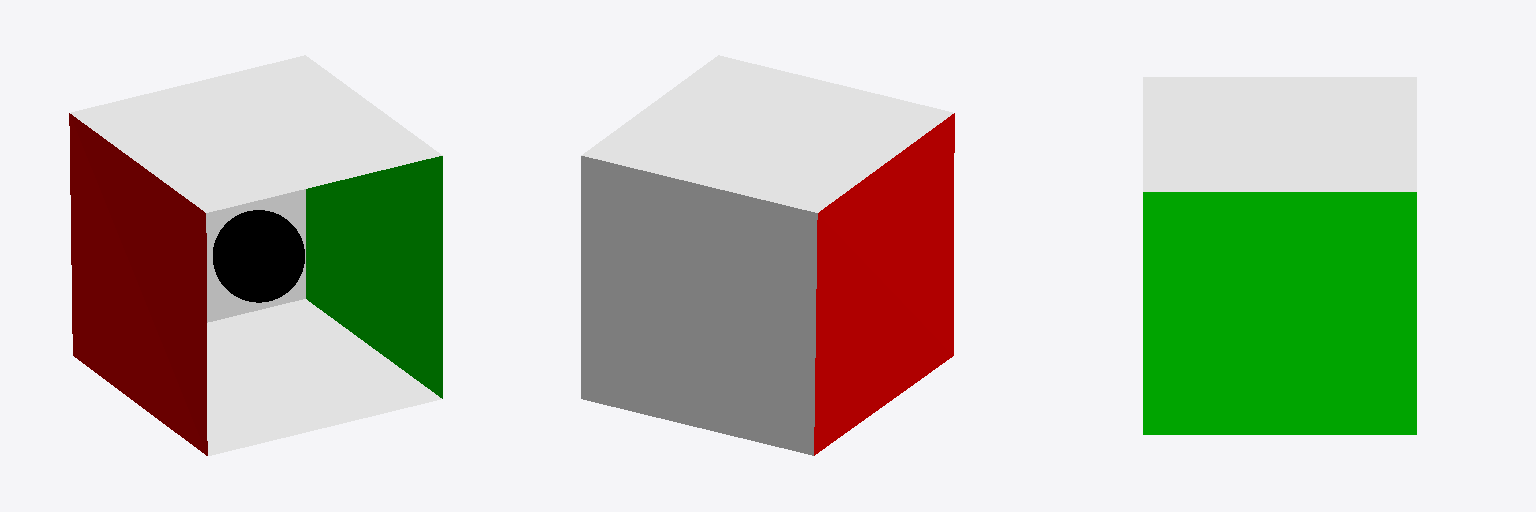
Rendered from CornellBox-Sphere-RG.obj.
3 views of the same model, side by side, from view 1: azimuth 30°, elevation 25°; view 2: azimuth 150°, elevation 25°; view 3: azimuth 270°, elevation 25° (orthographic).
Visible parts, largest first — view 1: CornellBox-Empty-RG, Cube_Cube.001; view 2: CornellBox-Empty-RG; view 3: CornellBox-Empty-RG.
Boxes of the visible parts, x1,y1,x2,y2 form: CornellBox-Empty-RG: [69, 55, 442, 455]; Cube_Cube.001: [213, 210, 304, 302]; CornellBox-Empty-RG: [581, 55, 954, 455]; CornellBox-Empty-RG: [1143, 77, 1416, 434].
Bounding box in the file's own units: 2.02 × 1.99 × 2.03.